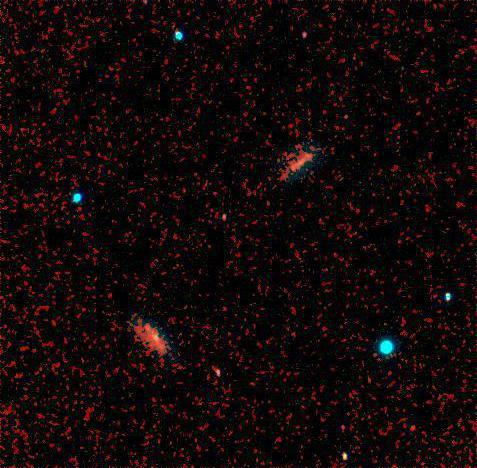star: (279, 153, 309, 183)
